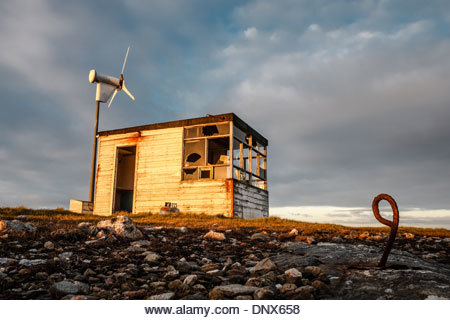faulty: (108, 64, 134, 97)
